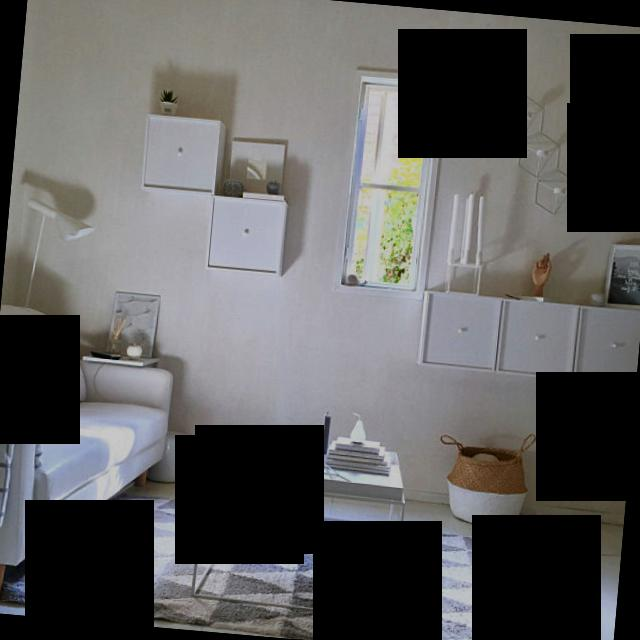white desk: (181, 415, 403, 615)
white sofa: (0, 294, 182, 585)
